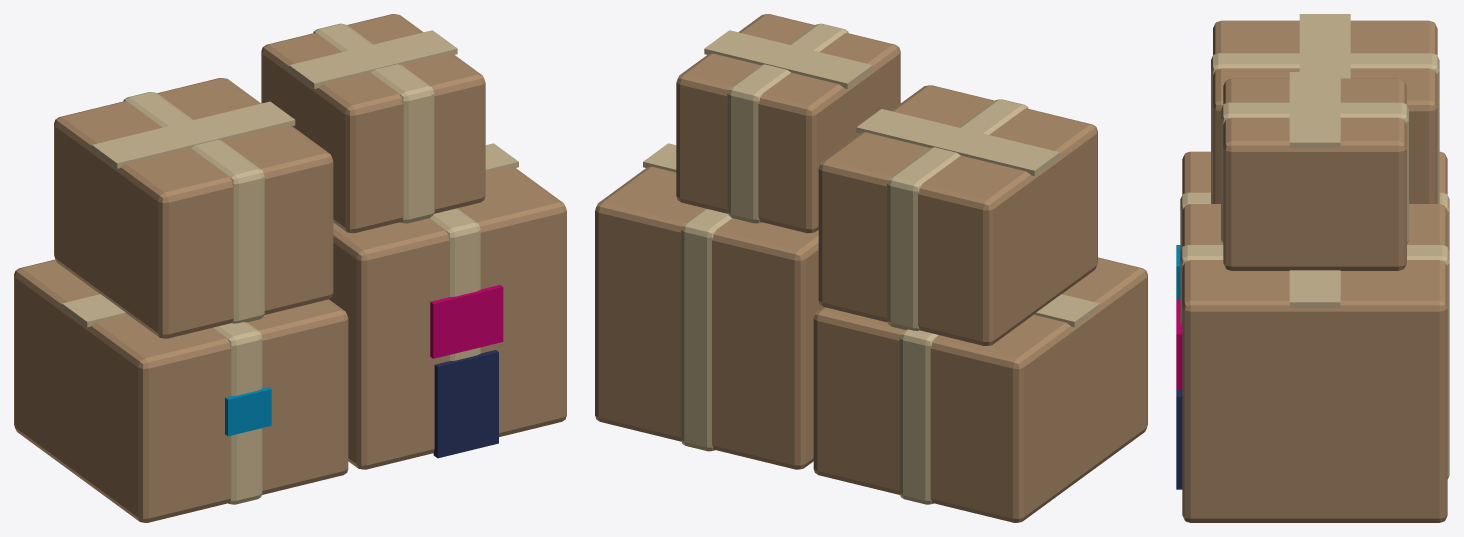
3 views of the same model, side by side, from view 1: azimuth 30°, elevation 25°; view 2: azimuth 150°, elevation 25°; view 3: azimuth 270°, elevation 25° (orthographic).
Parts seen in each view (by area): view 1: lm_09; view 2: lm_09; view 3: lm_09.
Part boxes in pixels (x1,y1,x2,y2): lm_09: [14, 14, 566, 522]; lm_09: [595, 14, 1147, 522]; lm_09: [1176, 14, 1449, 522].
Bounding box in the file's own units: 0.494 × 0.385 × 0.268.
